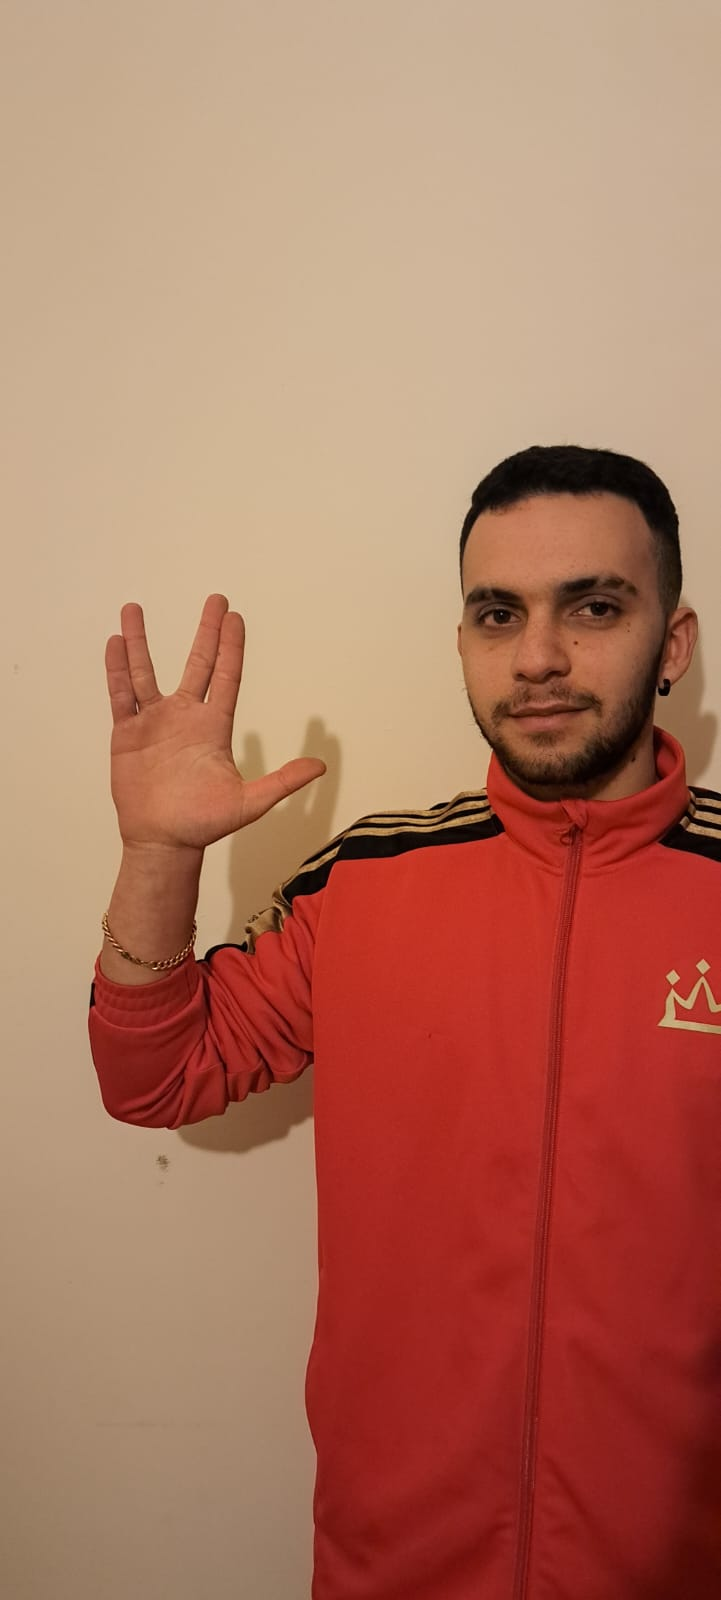alien: (94, 589, 334, 849)
